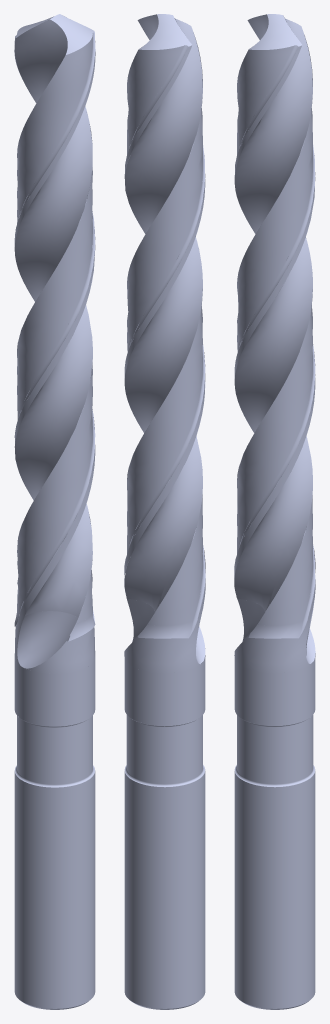
The model's file is drill 18mm.glb.
3 views of the same model, side by side, from view 1: azimuth 30°, elevation 25°; view 2: azimuth 150°, elevation 25°; view 3: azimuth 330°, elevation 25° (orthographic).
Visible parts, largest first — view 1: drill 18mm.IGS (×18); view 2: drill 18mm.IGS (×19); view 3: drill 18mm.IGS (×19).
Boxes of the visible parts, bbox=[...] form: drill 18mm.IGS (×18): bbox=[14, 14, 95, 1008]; drill 18mm.IGS (×19): bbox=[124, 14, 205, 1008]; drill 18mm.IGS (×19): bbox=[234, 14, 315, 1008].
Size of the model in its own units: 0.0181 by 0.2409 by 0.0181.
